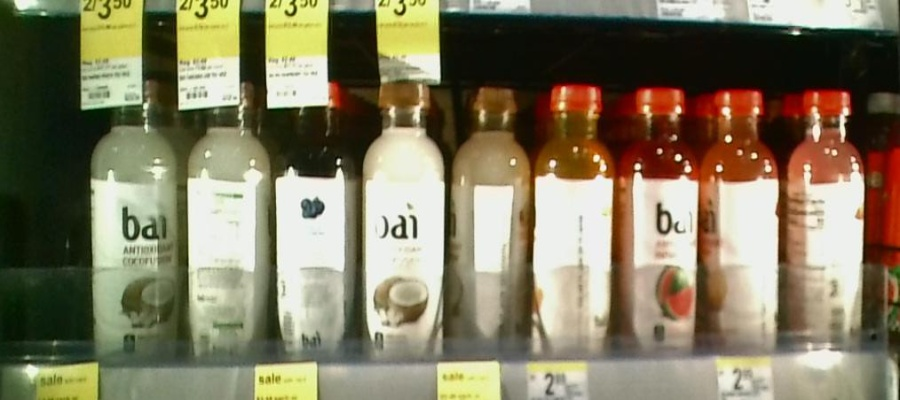bottle: (89, 83, 184, 369), (359, 82, 449, 363), (186, 84, 271, 371), (271, 83, 356, 368), (534, 82, 617, 370), (618, 84, 701, 370), (451, 81, 532, 363), (703, 86, 785, 359), (787, 89, 866, 361)
